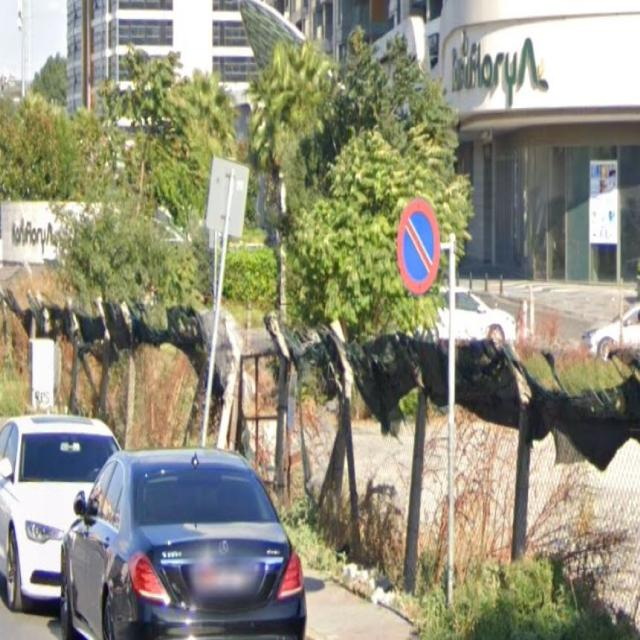parkyasak: (397, 200, 440, 292)
